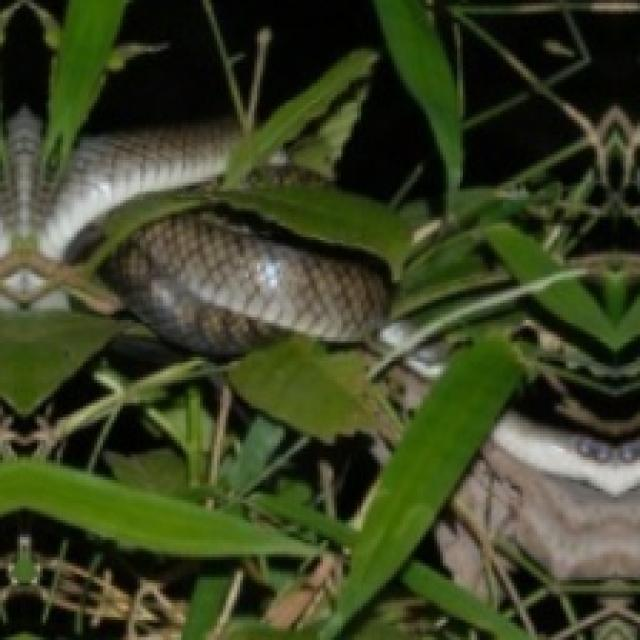smooth-scaled mountain rat snake: (109, 211, 383, 351), (0, 109, 234, 257), (494, 410, 640, 496), (404, 340, 451, 379), (380, 321, 415, 347)
